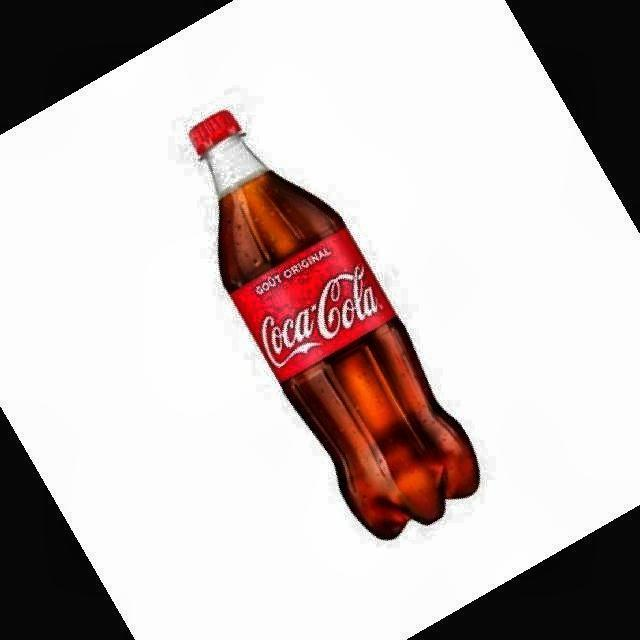plastic: (189, 110, 479, 538)
